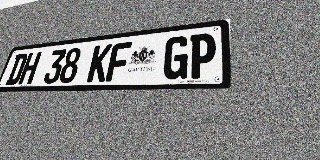3: (42, 49, 67, 84)
8: (58, 47, 83, 83)
D: (5, 53, 29, 85)
F: (105, 42, 132, 82)
G: (162, 35, 190, 80)
H: (18, 52, 42, 85)
K: (86, 44, 113, 82)
P: (188, 32, 216, 79)
